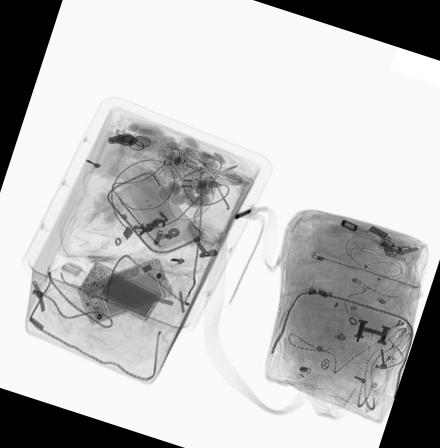Powerbank: (77, 257, 163, 322)
